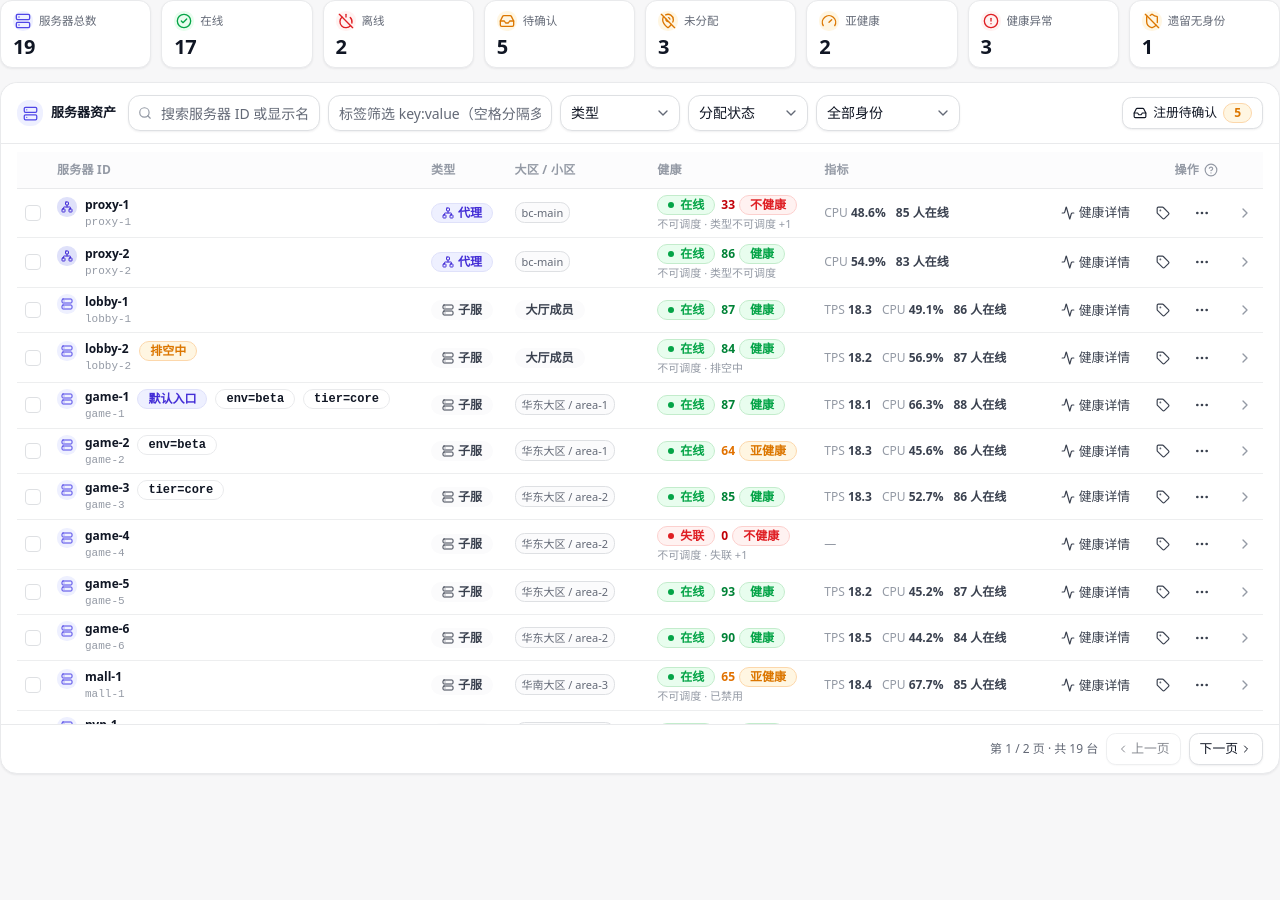
Test: /servers 服务器页 › FR-279：待确认行展示 token 指纹，同 token 一致且不含明文
The width and height of the screenshot is (1280, 900).
Click the button "注册待确认 5".
click(1193, 113)  # box x1=1122 y1=97 x2=1263 y2=129
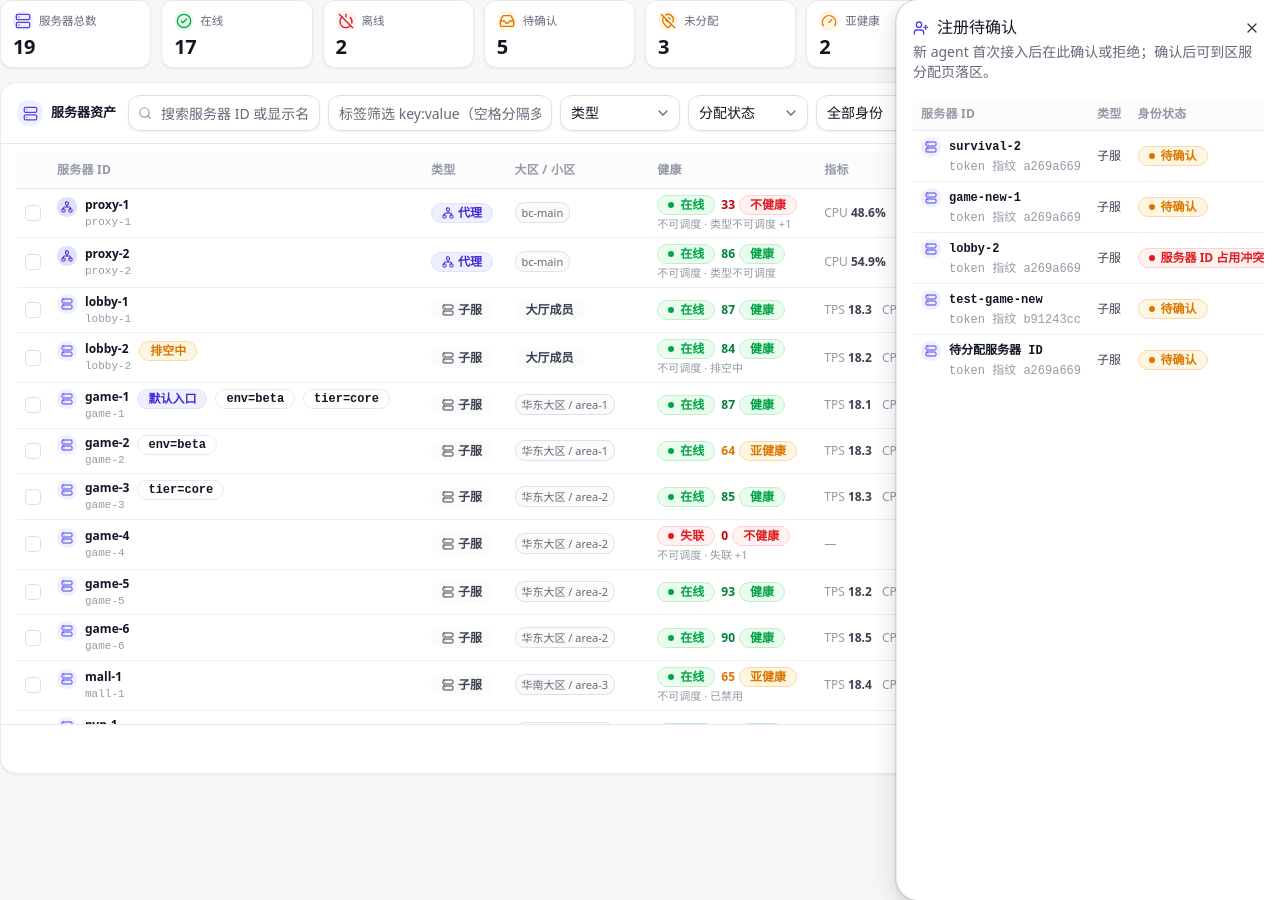
Now the text "game-new-1" is shown, box x1=949 y1=190 x2=1021 y2=204
Now the text "待分配服务器 ID" is shown, box x1=949 y1=344 x2=1043 y2=358
Now the text "token 指纹 a269a669" below "game-new-1" is shown, box x1=949 y1=210 x2=1081 y2=224
